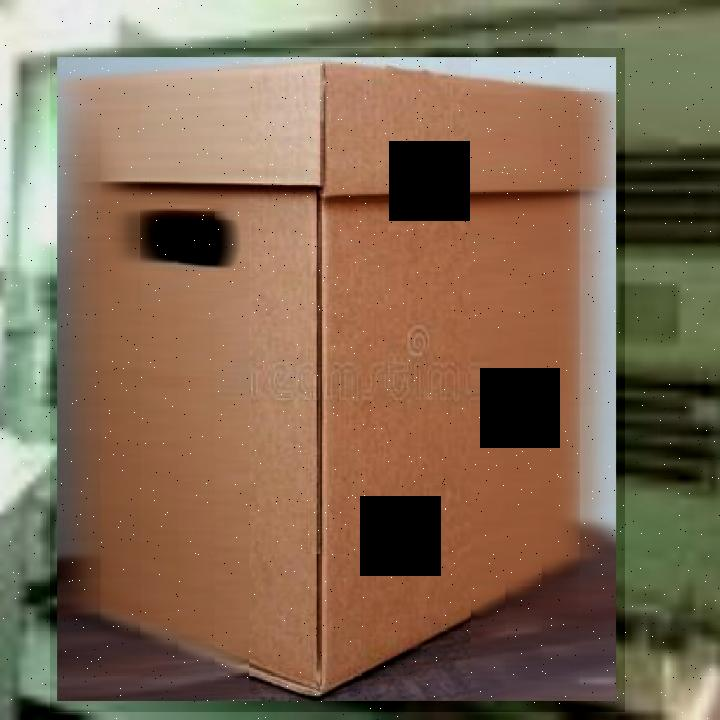box: (50, 48, 625, 712)
